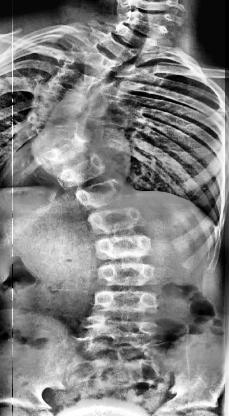Vertebrae: (76, 314, 161, 342), (92, 286, 162, 318), (34, 138, 94, 174), (55, 152, 111, 190), (78, 340, 156, 366), (27, 120, 87, 152), (76, 176, 132, 210), (87, 204, 146, 236), (50, 60, 102, 95), (92, 233, 158, 260), (25, 96, 83, 126), (96, 260, 158, 288), (35, 76, 88, 108), (114, 20, 158, 52), (74, 43, 117, 73), (98, 31, 138, 63)
